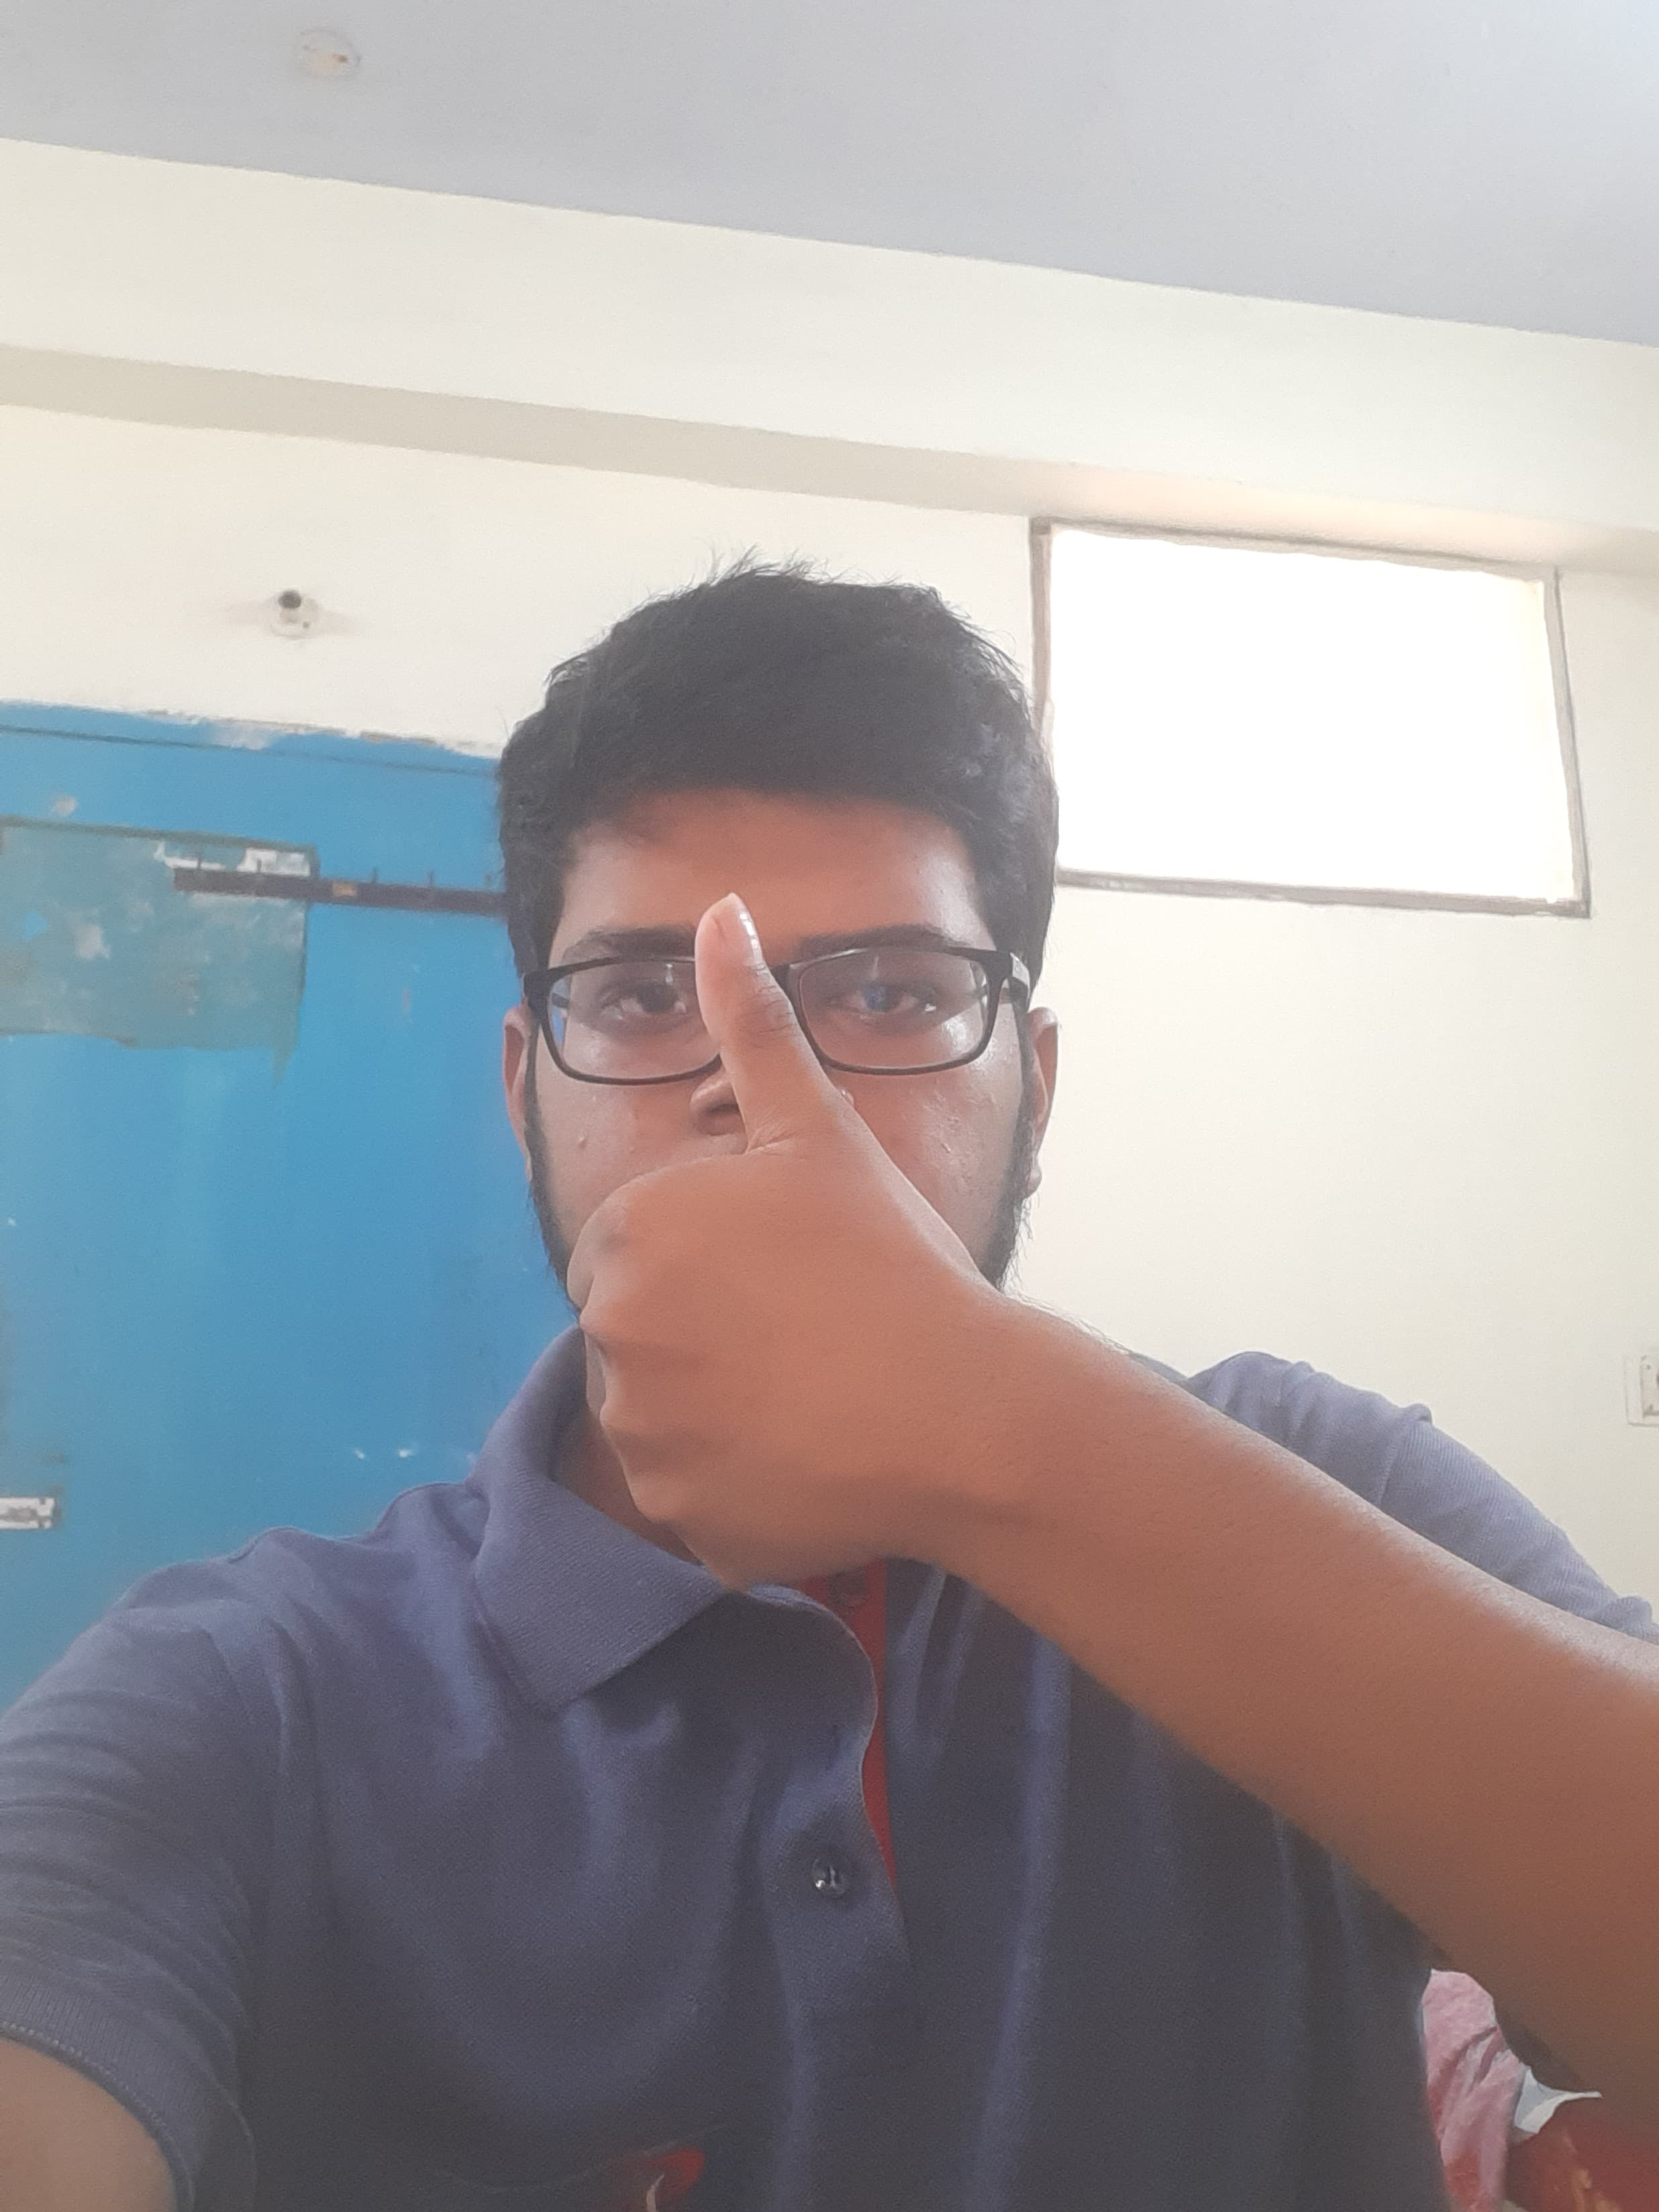ThumbsUp: (565, 888, 1006, 1602)
